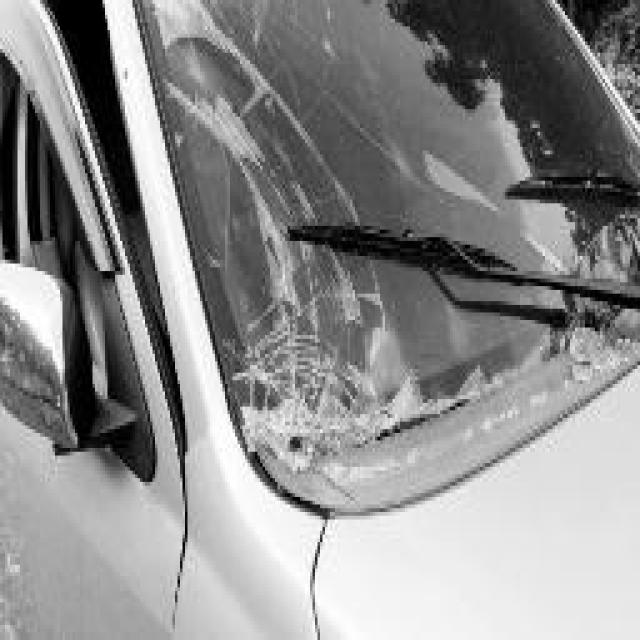Windshield: (158, 4, 640, 474)
